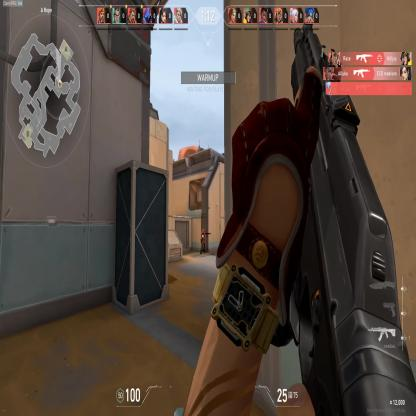enemy: (199, 228, 208, 255)
